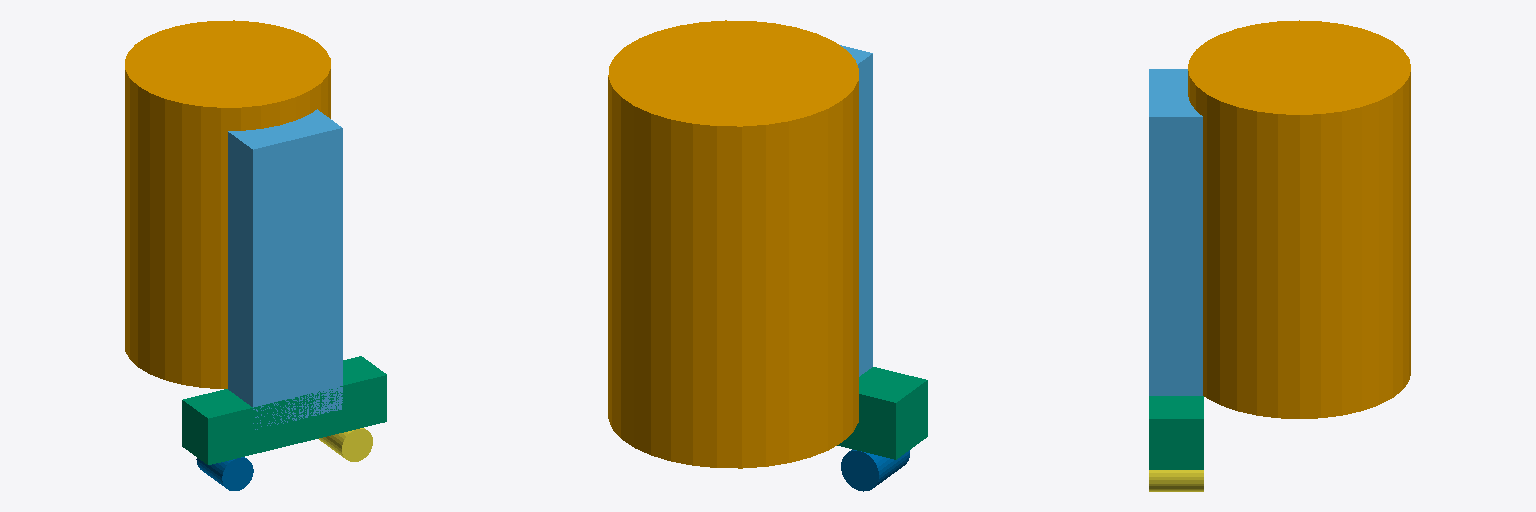
URDF robot description (physics):
<?xml version="1.0"?>
<robot name="physics">

  <link name="base_link">
    <visual>
      <geometry>
        <cylinder length="0.6" radius="0.2"/>
      </geometry>
      <material name="blue"/>
    </visual>
    <collision>
      <geometry>
        <cylinder length="0.6" radius="0.2"/>
      </geometry>
    </collision>
    <inertial>
      <mass value="10"/>
      <inertia ixx="1.0" ixy="0.0" ixz="0.0" iyy="1.0" iyz="0.0" izz="1.0"/>
    </inertial>
  </link>

  <link name="right_leg">
    <visual>
      <geometry>
        <box size="0.6 0.1 0.2"/>
      </geometry>
      <origin rpy="0 1.57075 0" xyz="0 0 -0.3"/>
      <material name="white"/>
    </visual>
    <collision>
      <geometry>
        <box size="0.6 0.1 0.2"/>
      </geometry>
      <origin rpy="0 1.57075 0" xyz="0 0 -0.3"/>
    </collision>
    <inertial>
      <mass value="10"/>
      <inertia ixx="1.0" ixy="0.0" ixz="0.0" iyy="1.0" iyz="0.0" izz="1.0"/>
    </inertial>
  </link>
  
  <joint name="base_to_right_leg" type="fixed">
    <parent link="base_link"/>
    <child link="right_leg"/>
    <origin xyz="0 -0.22 0.25"/>
  </joint>


  <link name="right_base">
    <visual>
      <geometry>
        <box size="0.4 0.1 0.1"/>
      </geometry>
      <material name="white"/>
    </visual>
    <collision>
      <geometry>
        <box size="0.4 0.1 0.1"/>
      </geometry>
    </collision>
    <inertial>
      <mass value="10"/>
      <inertia ixx="1.0" ixy="0.0" ixz="0.0" iyy="1.0" iyz="0.0" izz="1.0"/>
    </inertial>
  </link>

  <joint name="right_base_joint" type="fixed">
    <parent link="right_leg"/>
    <child link="right_base"/>
    <origin xyz="0 0 -0.6"/>
  </joint>

  <link name="right_front_wheel">
    <visual>
      <origin rpy="1.57075 0 0" xyz="0 0 0"/>
      <geometry>
        <cylinder length="0.1" radius="0.035"/>
      </geometry>
      <material name="black"/>
    </visual>
    <collision>
      <origin rpy="1.57075 0 0" xyz="0 0 0"/>
      <geometry>
        <cylinder length="0.1" radius="0.035"/>
      </geometry>
    </collision>
    <inertial>
      <mass value="1"/>
      <inertia ixx="1.0" ixy="0.0" ixz="0.0" iyy="1.0" iyz="0.0" izz="1.0"/>
    </inertial>
  </link>

  <joint name="right_front_wheel_joint" type="continuous">
    <axis rpy="0 0 0" xyz="0 1 0"/>
    <parent link="right_base"/>
    <child link="right_front_wheel"/>
    <origin rpy="0 0 0" xyz="0.133333333333 0 -0.085"/>
  </joint>

  <link name="right_back_wheel">
    <visual>
      <origin rpy="1.57075 0 0" xyz="0 0 0"/>
      <geometry>
        <cylinder length="0.1" radius="0.035"/>
      </geometry>
      <material name="black"/>
    </visual>
    <collision>
      <origin rpy="1.57075 0 0" xyz="0 0 0"/>
      <geometry>
        <cylinder length="0.1" radius="0.035"/>
      </geometry>
    </collision>
    <inertial>
      <mass value="1"/>
      <inertia ixx="1.0" ixy="0.0" ixz="0.0" iyy="1.0" iyz="0.0" izz="1.0"/>
    </inertial>
  </link>

  <joint name="right_back_wheel_joint" type="continuous">
    <axis rpy="0 0 0" xyz="0 1 0"/>
    <parent link="right_base"/>
    <child link="right_back_wheel"/>
    <origin rpy="0 0 0" xyz="-0.133333333333 0 -0.085"/>
  </joint>

</robot>

--- Facts derived from the render (not from the file) ---
The picture shows the robot from 3 angles, left to right: view 1: azimuth 30°, elevation 25°; view 2: azimuth 150°, elevation 25°; view 3: azimuth 270°, elevation 25°; orthographic projection.
Robot: physics — 5 links, 4 joints (2 continuous, 2 fixed); root link base_link; default pose: every joint at zero.
Visible links, largest first — view 1: base_link, right_leg, right_base, right_back_wheel, right_front_wheel; view 2: base_link, right_base, right_leg, right_back_wheel; view 3: base_link, right_leg, right_base, right_front_wheel.
Boxes of the visible links, <box> form: base_link: <box>125,20,330,388</box>; right_leg: <box>228,109,342,429</box>; right_base: <box>182,356,386,464</box>; right_back_wheel: <box>196,457,253,490</box>; right_front_wheel: <box>319,428,372,461</box>; base_link: <box>608,20,858,468</box>; right_base: <box>837,367,927,459</box>; right_leg: <box>840,45,872,376</box>; right_back_wheel: <box>841,449,909,491</box>; base_link: <box>1188,20,1410,418</box>; right_leg: <box>1149,69,1202,395</box>; right_base: <box>1149,396,1203,469</box>; right_front_wheel: <box>1149,470,1203,491</box>.
Bounding box of the posed robot: 0.4 × 0.47 × 0.77 m (x, y, z).
Geometry: primitives only (box / cylinder / sphere), no mesh files.
